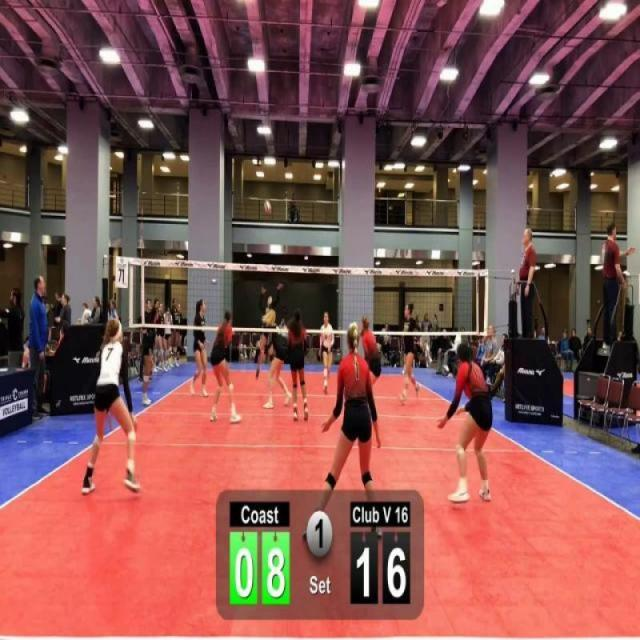volleyball: (263, 196, 272, 216)
